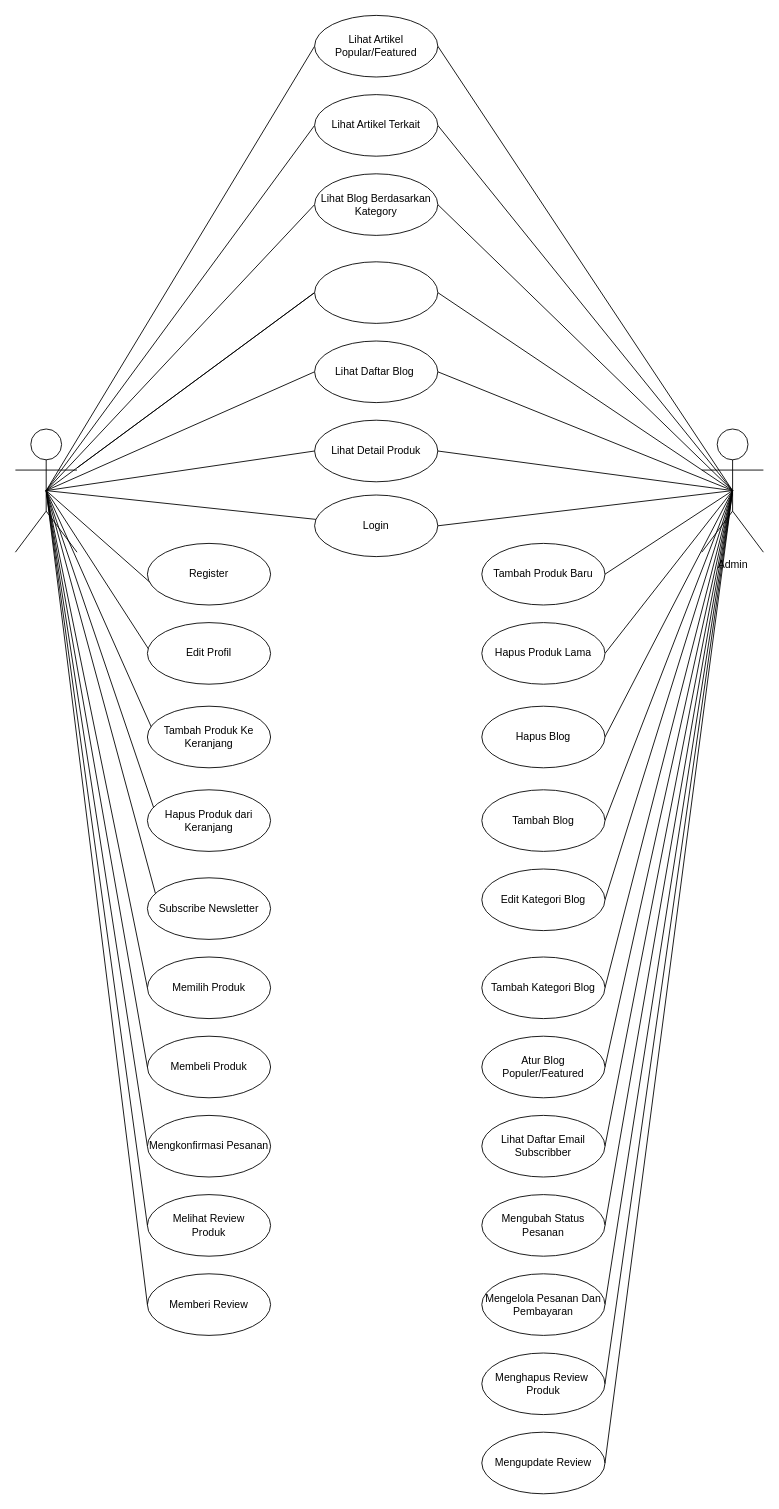
The diagram is 779 pixels wide and 1509 high, and some of its shapes have lost their labels. The centre of each missing label's shape, as x and y in pixels:
"Lihat Daftar Produk" goes at [376,292].
"Users" goes at [46,490].
